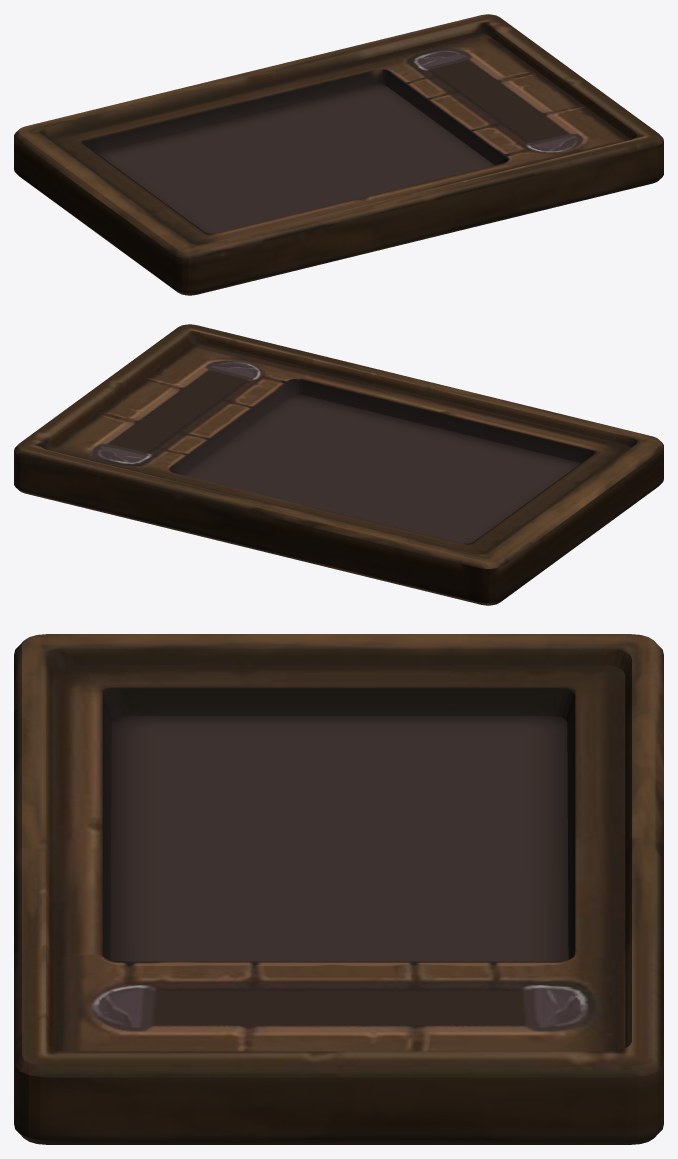
The model's file is champion_tab.fbx.
The picture shows the model from 3 angles, top to bottom: view 1: azimuth 30°, elevation 25°; view 2: azimuth 150°, elevation 25°; view 3: azimuth 270°, elevation 25°; orthographic projection. The views are drawn at different scales.
Parts seen in each view (by area): view 1: pasted__pCube1; view 2: pasted__pCube1; view 3: pasted__pCube1.
Boxes of the visible parts, <box> form: pasted__pCube1: <box>14,14,663,295</box>; pasted__pCube1: <box>14,324,663,605</box>; pasted__pCube1: <box>14,634,663,1144</box>.
Bounding box in the file's own units: 3.5 × 0.2928 × 2.19.
